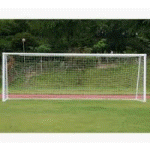goals: (1, 50, 150, 104)
